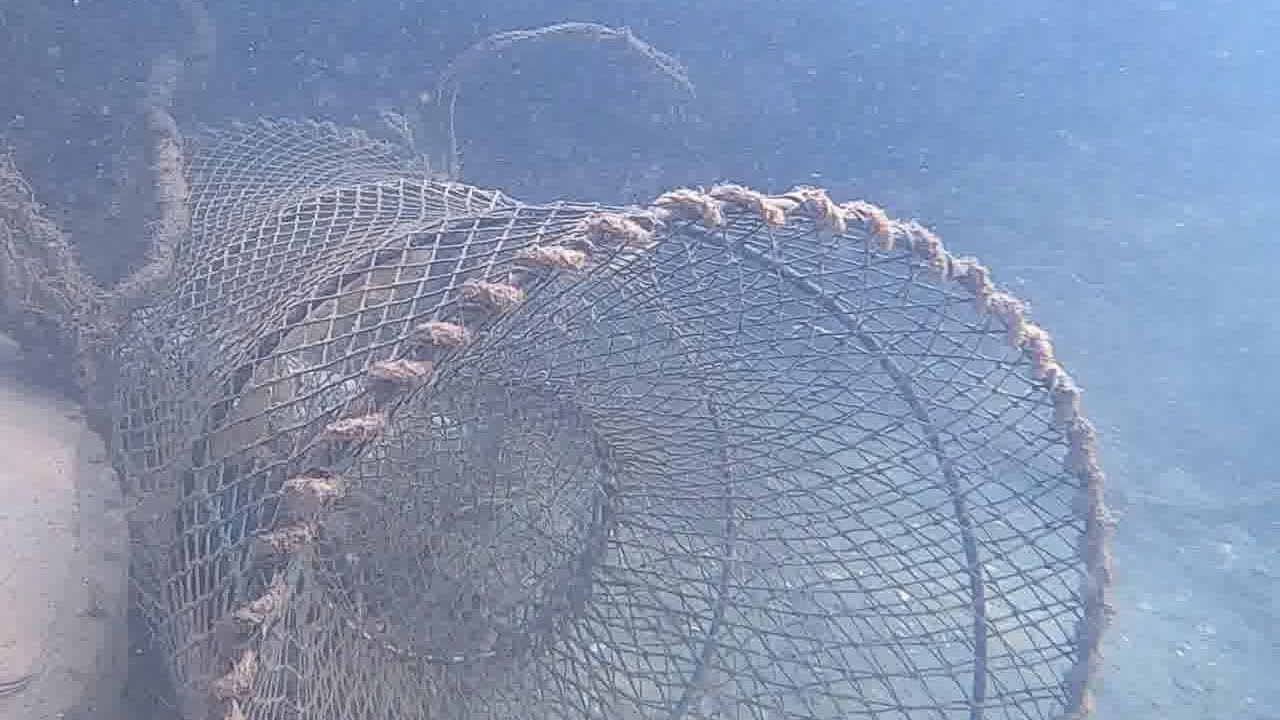bundle of ropes: (423, 18, 703, 185)
spring fish trap: (87, 118, 1116, 720)
